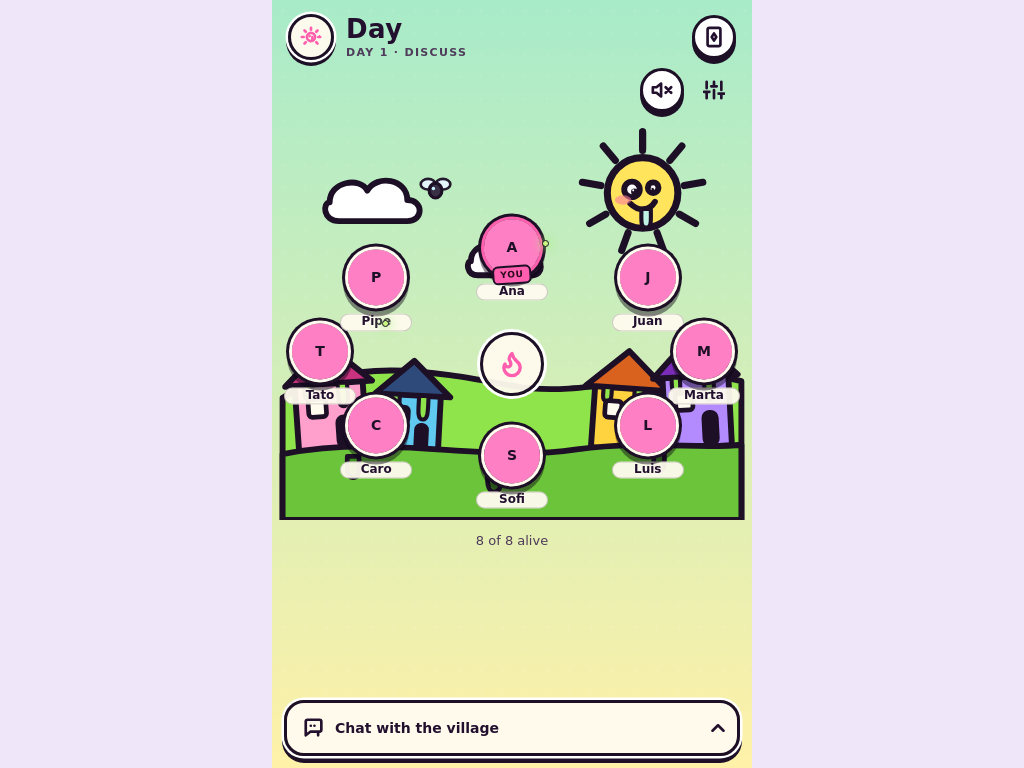
Scenario: moderated messages › explains message-blocked
Click the button with class "chatbar" at (417, 728), box [284, 700, 740, 756]
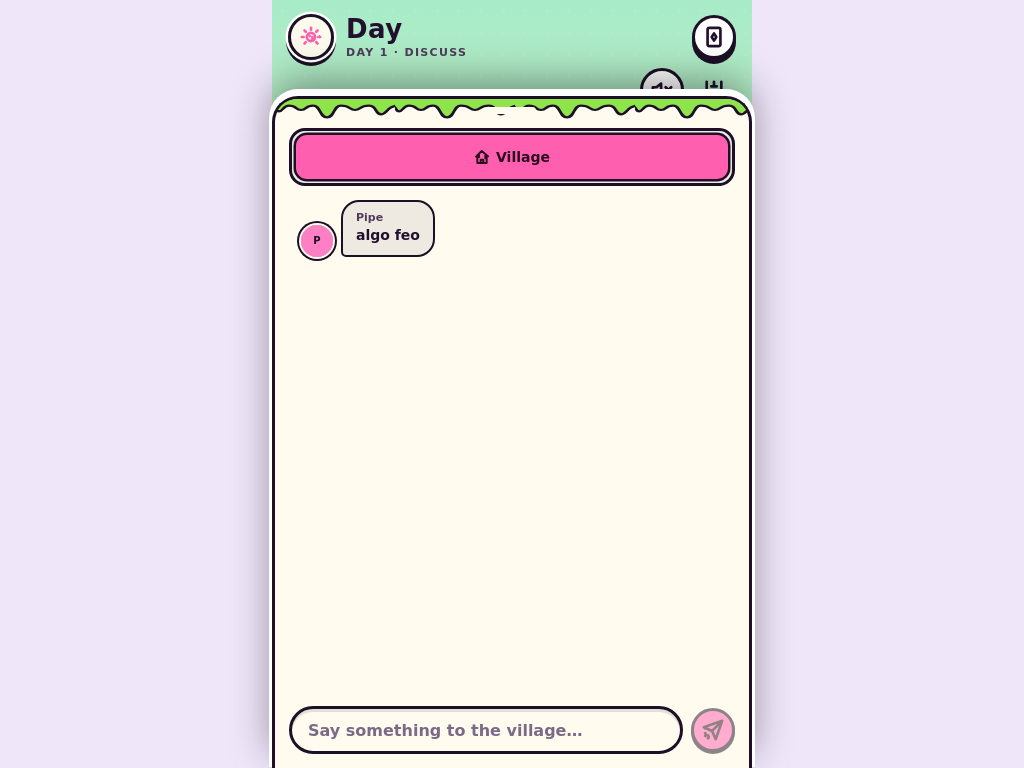
Type "hola" into the field with placeholder "Say something to the village…" at (486, 730), box [289, 706, 683, 754]
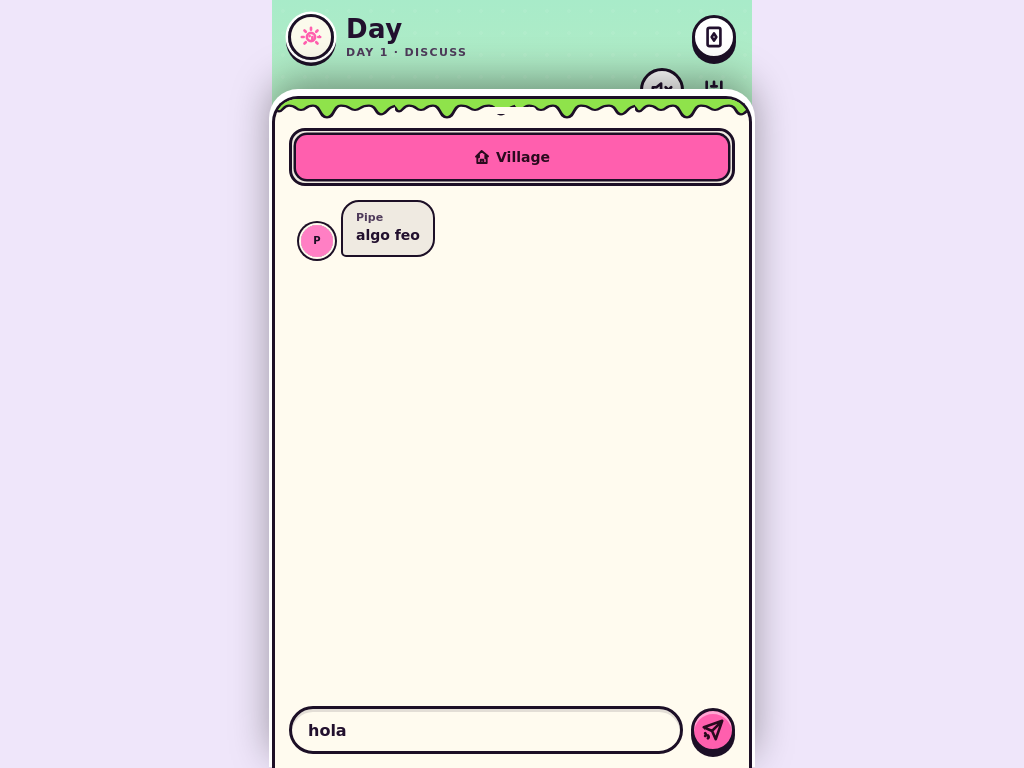
Submit the form with class "composer", box [289, 706, 735, 754]
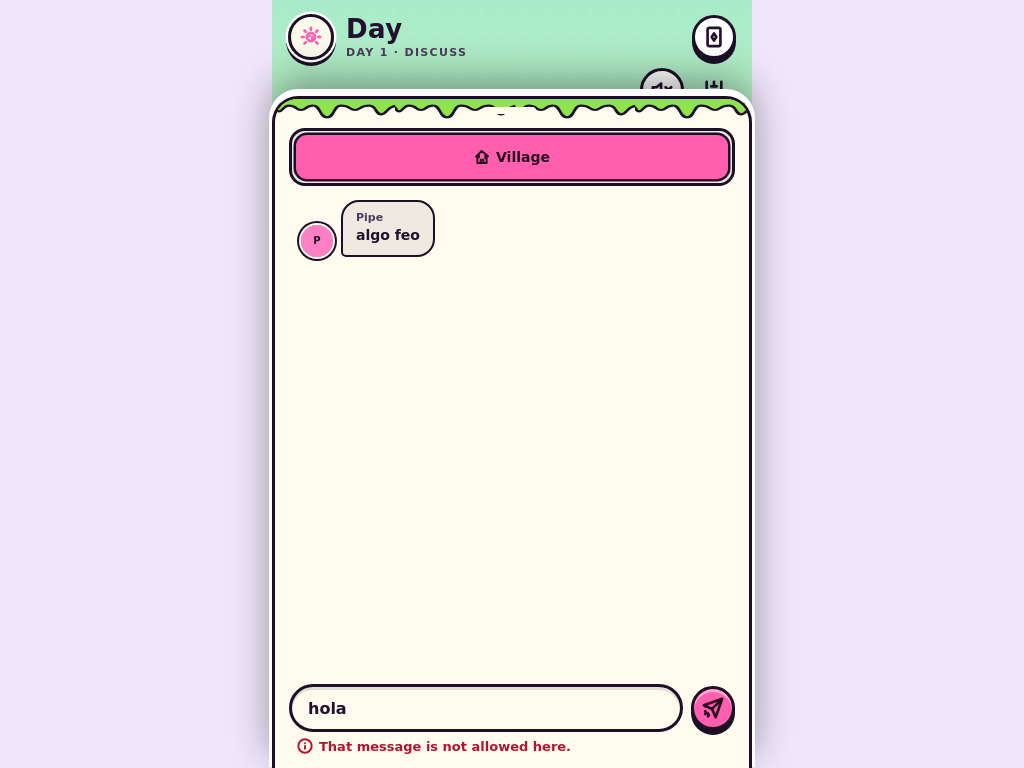
Expected: the message with class "chat-composer-error" reads "That message is not allowed here.", [319, 738, 571, 754]
